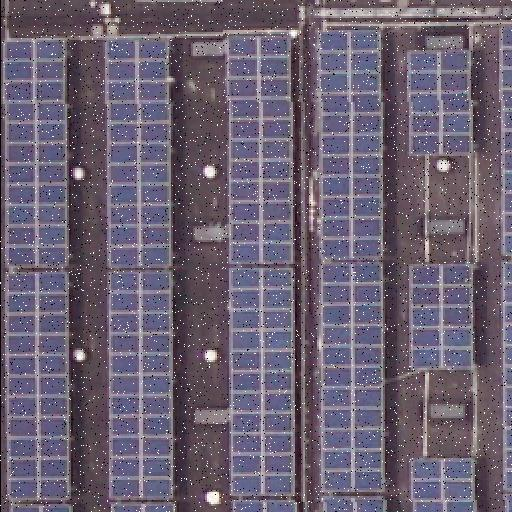solar-panel: (107, 32, 173, 268), (7, 270, 73, 498), (5, 34, 67, 266), (317, 26, 379, 258), (228, 38, 292, 262), (229, 265, 291, 495), (109, 270, 171, 498), (321, 260, 383, 488), (408, 263, 472, 369), (409, 53, 471, 155), (413, 457, 475, 511), (500, 24, 512, 256), (500, 261, 512, 491), (324, 496, 384, 512), (234, 497, 294, 511), (114, 500, 174, 512), (7, 504, 73, 512), (504, 496, 512, 512)
